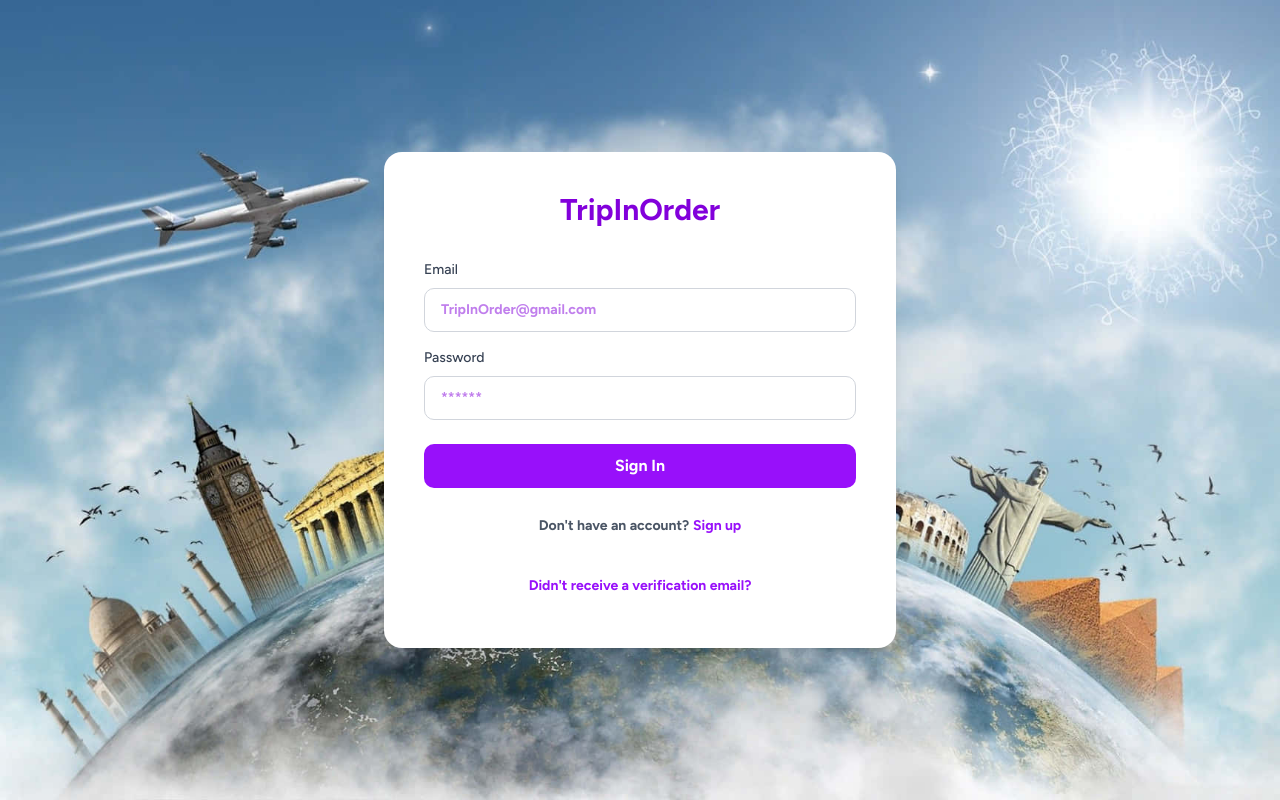
Test case: login page › shows the error returned by the API and does not store a session
Step 1. Type "gabi@example.com" into the field with placeholder "TripInOrder@gmail.com" → [640, 310], box [424,288,856,332]
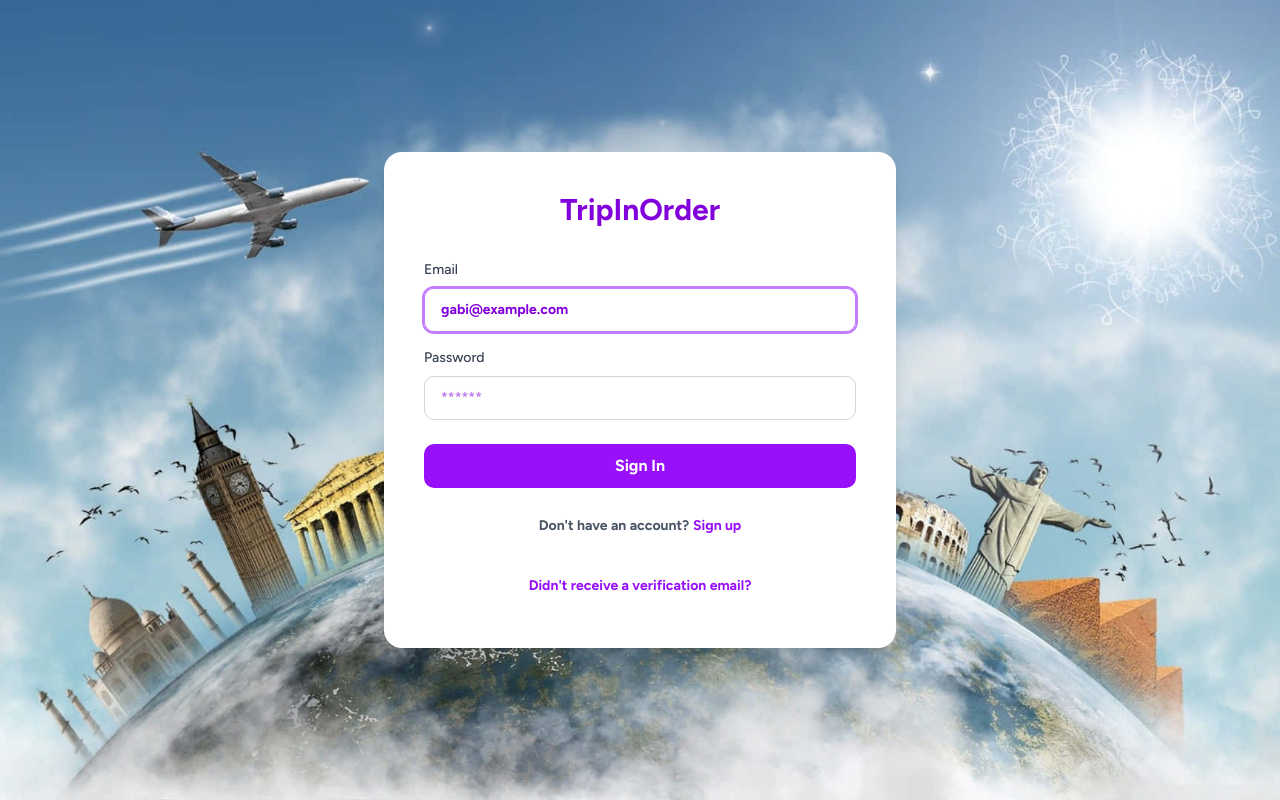
Step 2. Type "abc123" into the password field with placeholder "******" → [640, 398], box [424,376,856,420]
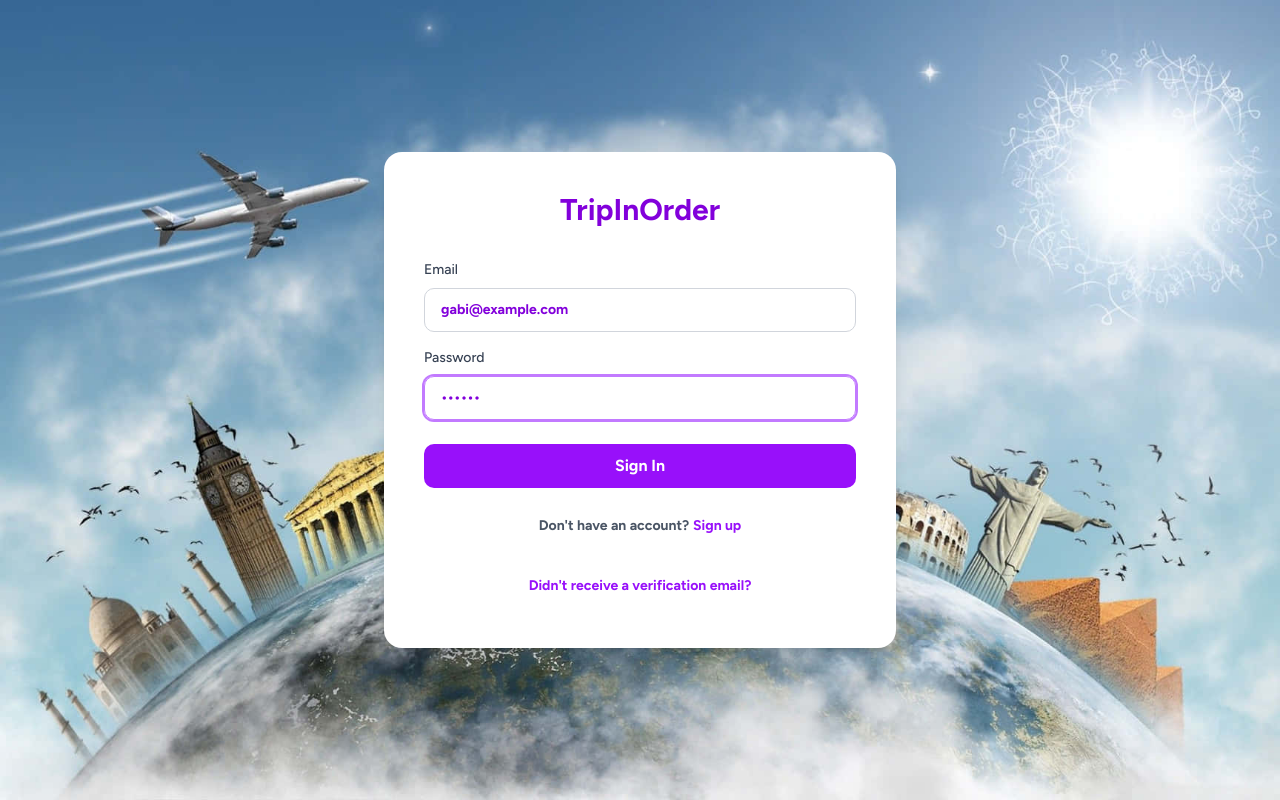
Step 3. Click the button "Sign In" → [640, 466], box [424,444,856,488]
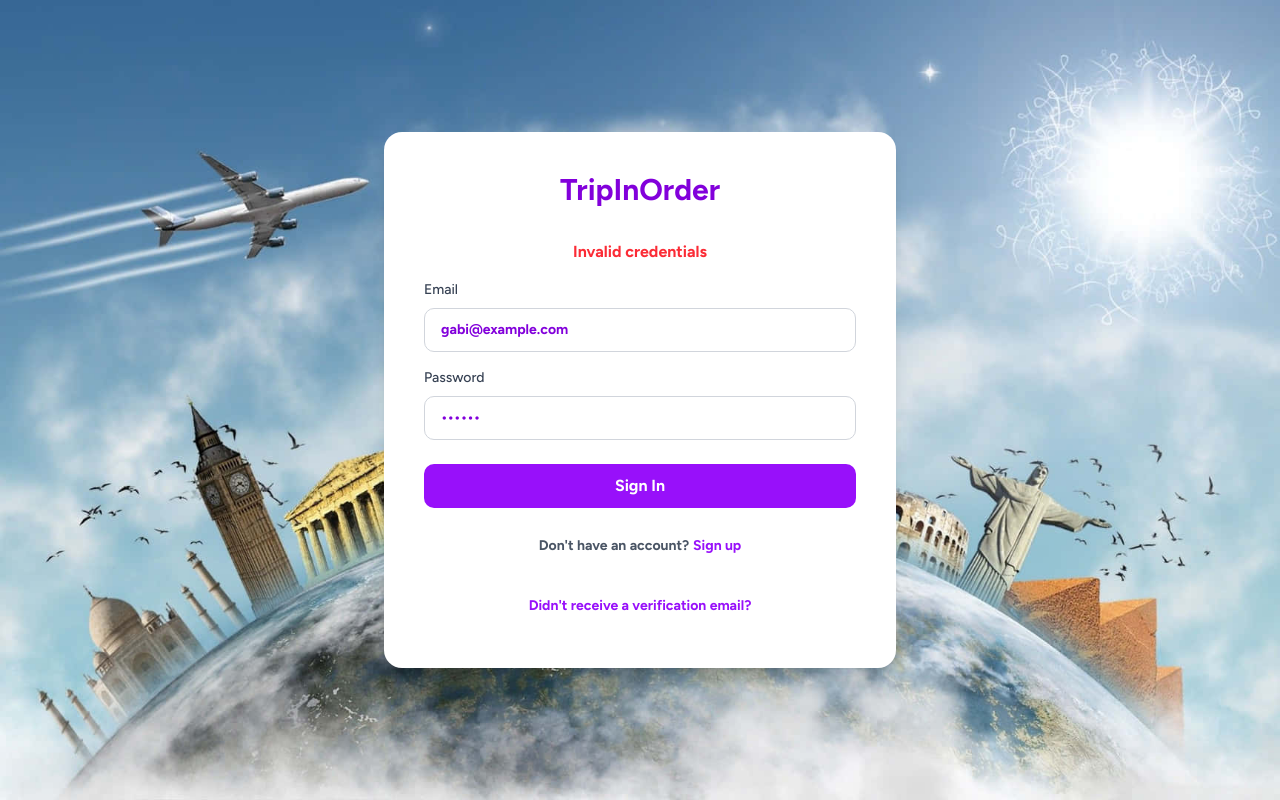
Check: the text "Invalid credentials" is shown, box [573,242,707,261]
